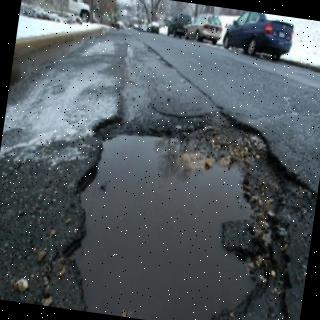pothole: (57, 113, 315, 320)
